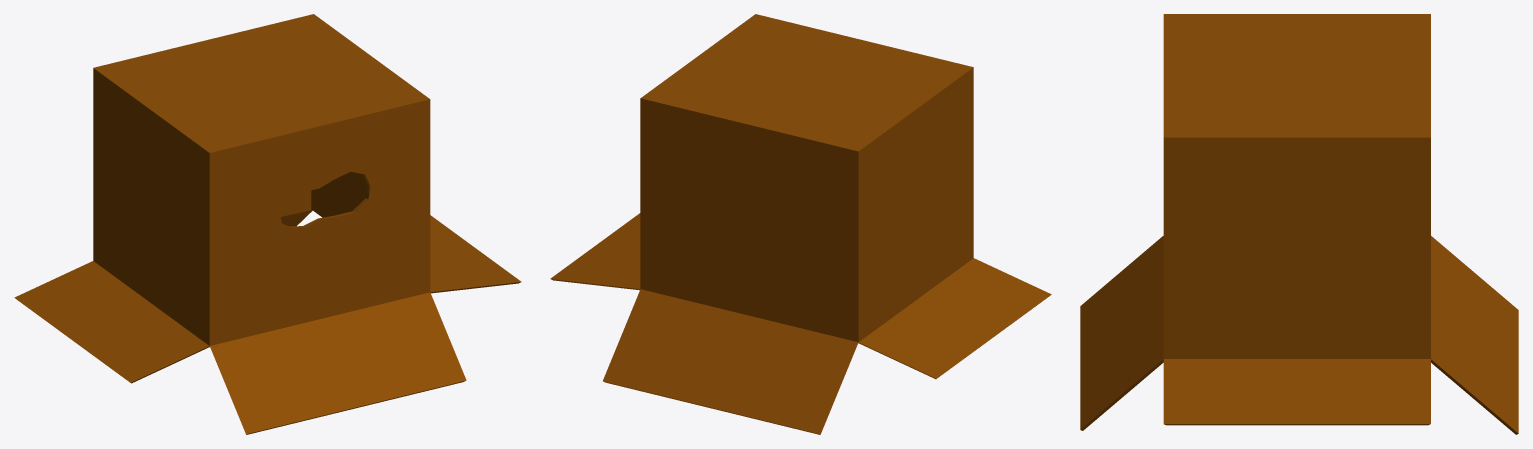
File: CardboardBoxFBX.fbx
3 views of the same model, side by side, from view 1: azimuth 30°, elevation 25°; view 2: azimuth 150°, elevation 25°; view 3: azimuth 270°, elevation 25° (orthographic). The views are drawn at different scales.
Visible parts, largest first — view 1: CardboardBox; view 2: CardboardBox; view 3: CardboardBox.
Part boxes in pixels (box(x1,y1,x2,y2)): CardboardBox: box(14, 14, 521, 434); CardboardBox: box(550, 14, 1051, 434); CardboardBox: box(1080, 14, 1518, 434).
Bounding box in the file's own units: 3.3 × 2.09 × 2.79.
